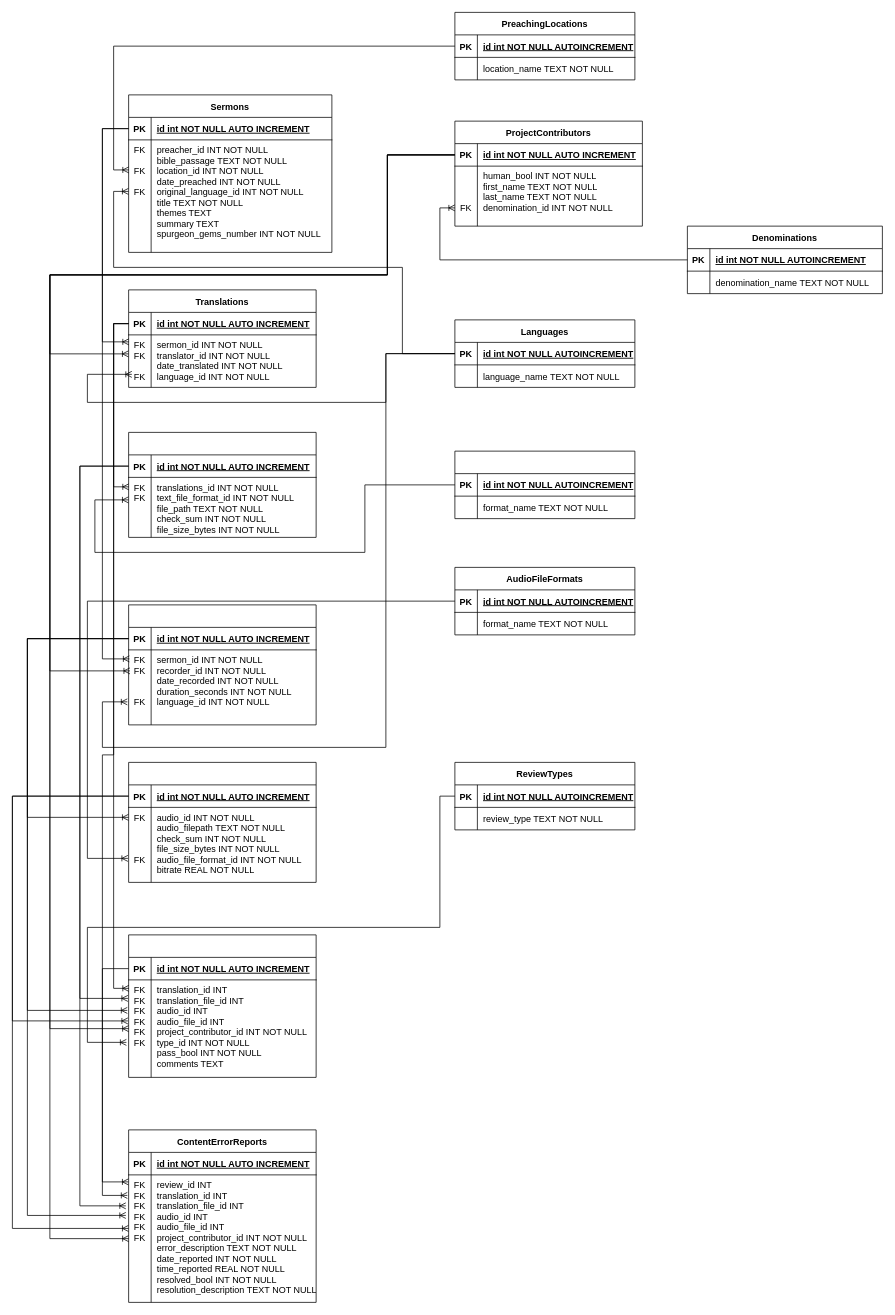
Image size: 895x1315. Some labels were removed from this diagram. Each missing label, with the box of its shape:
Audio: (128, 604, 316, 725)
AudioFiles: (128, 762, 316, 882)
Reviews: (128, 934, 316, 1077)
TextFileFormats: (454, 450, 635, 519)
TranslationFiles: (128, 432, 316, 537)
